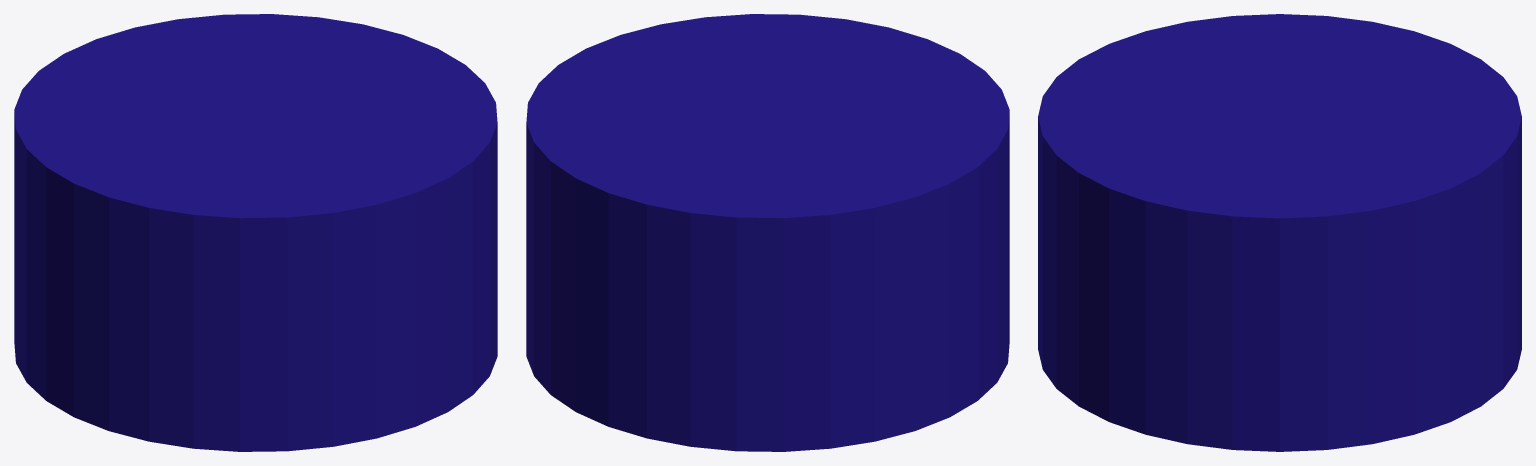
Rendered from lidar.dae.
The picture shows the model from 3 angles, left to right: view 1: azimuth 30°, elevation 25°; view 2: azimuth 150°, elevation 25°; view 3: azimuth 270°, elevation 25°; orthographic projection.
Visible parts, largest first — view 1: lidar; view 2: lidar; view 3: lidar.
Part boxes in pixels (x1,y1,x2,y2): lidar: [14, 14, 497, 451]; lidar: [526, 14, 1009, 451]; lidar: [1038, 14, 1521, 451].
Size of the model in its own units: 0.0563 by 0.0563 by 0.03.
